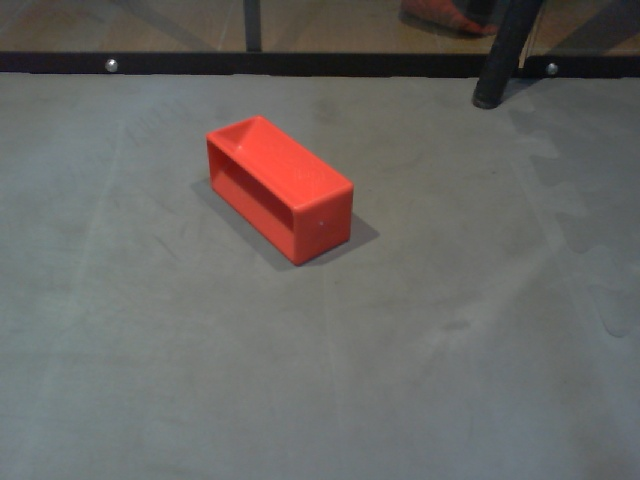RedSample: (201, 113, 356, 269)
